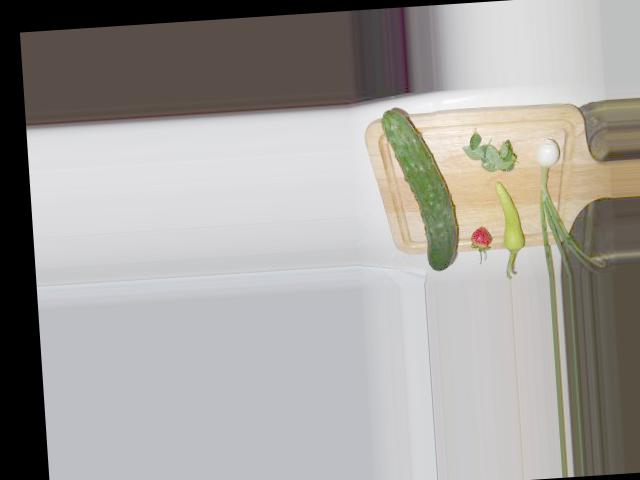cucumber: (380, 105, 459, 273)
